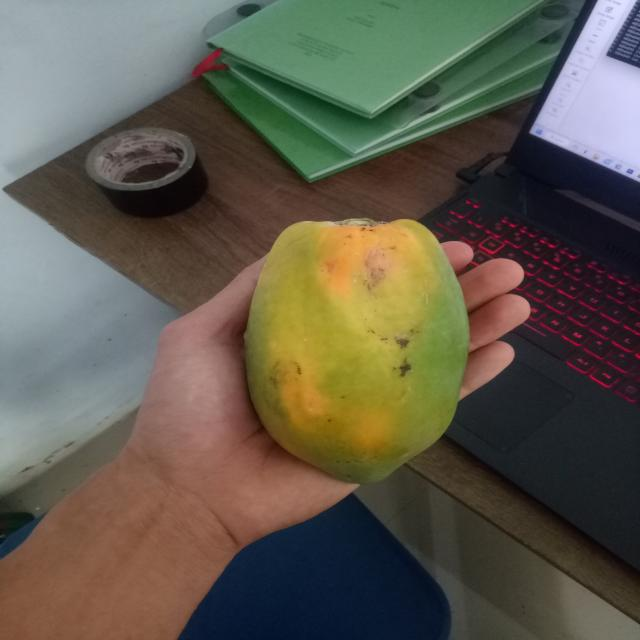Pepaya rippen: (244, 212, 469, 490)
